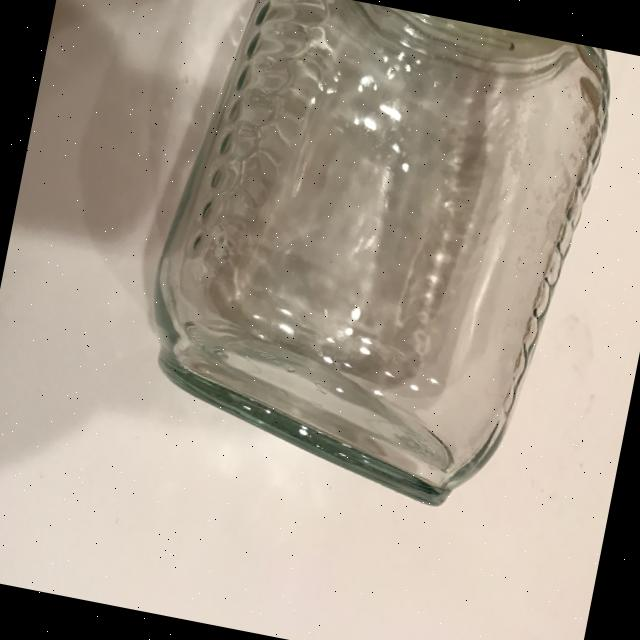glass: (120, 0, 622, 526)
